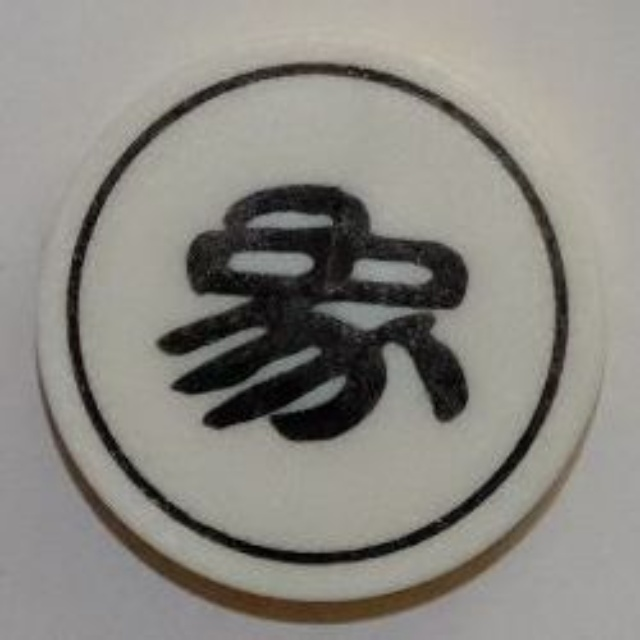black_bo: (31, 28, 624, 618)
